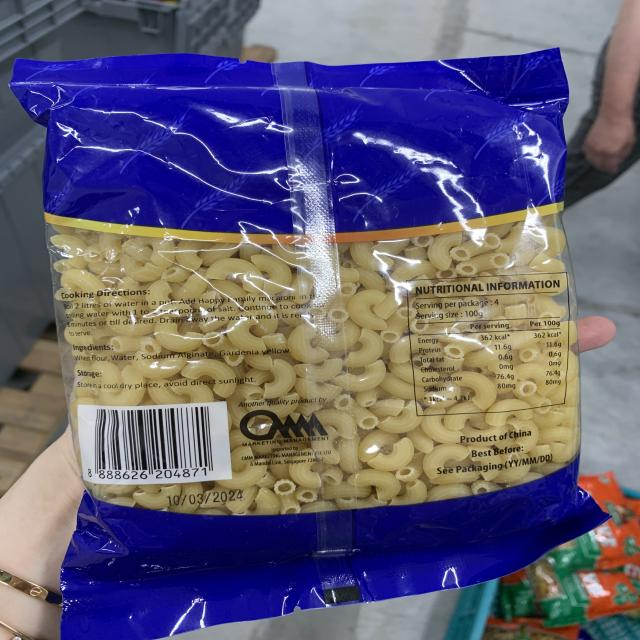object_name: (36, 66, 588, 573)
